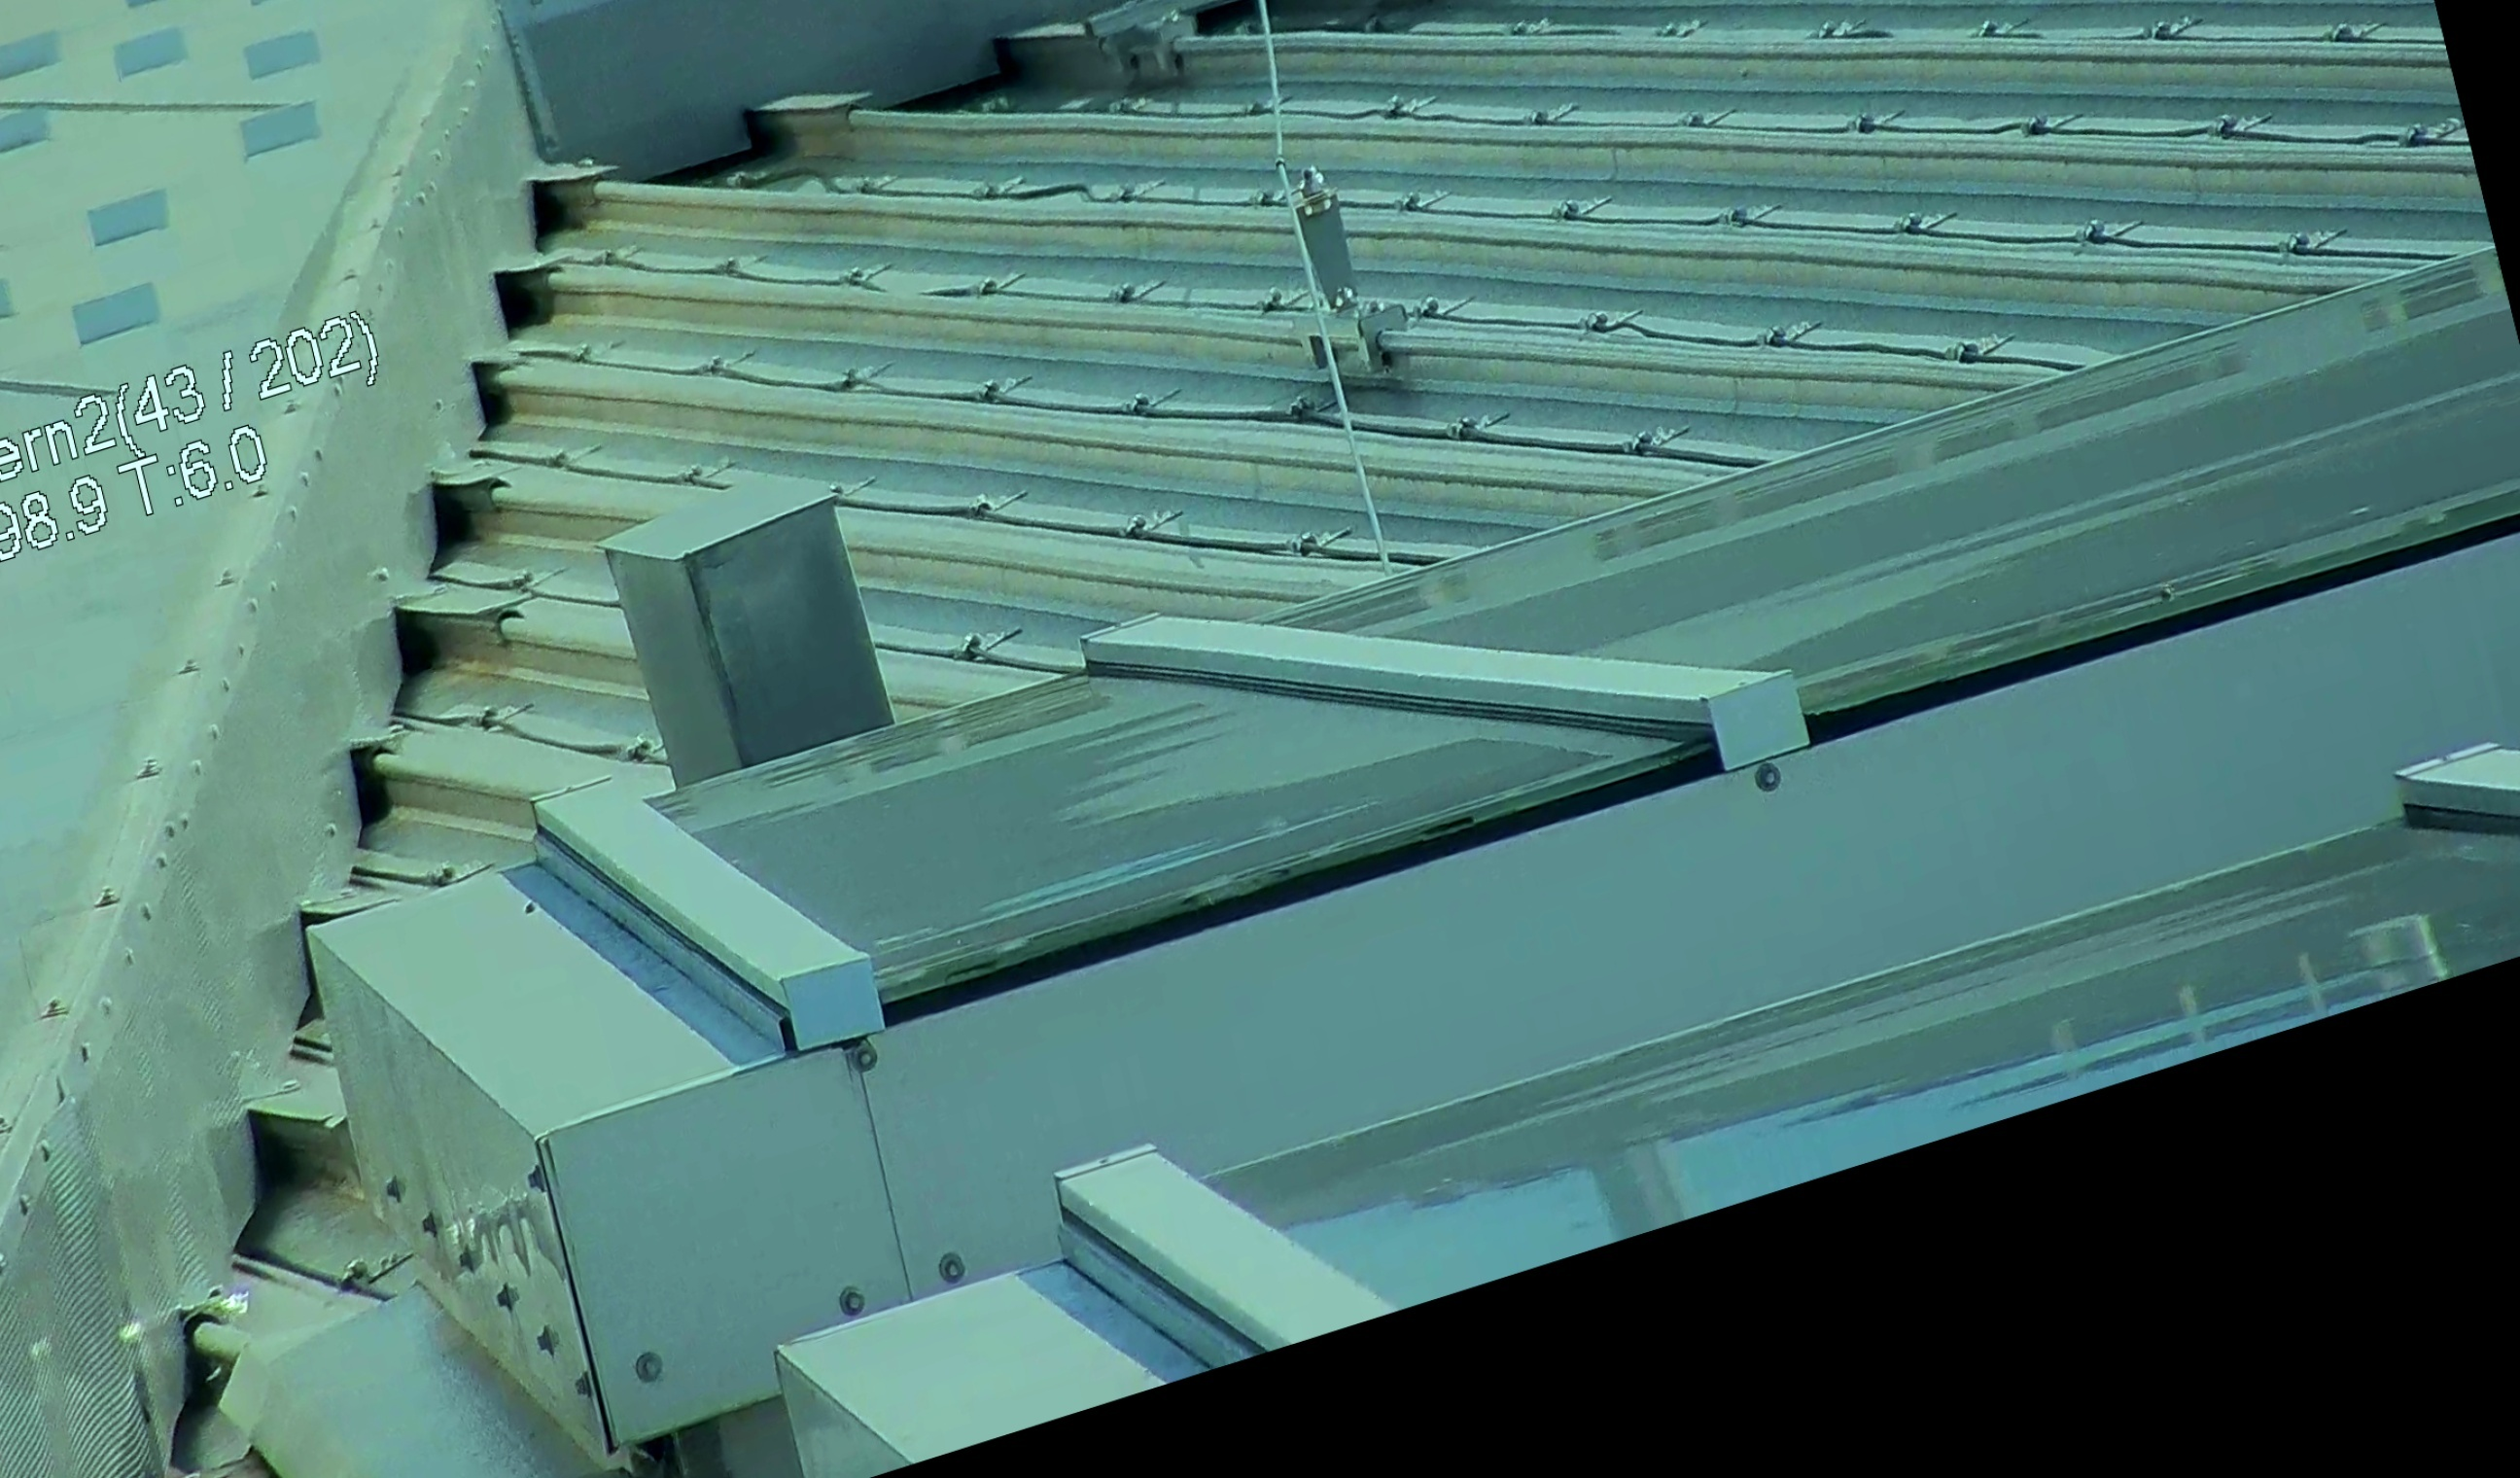Other: (107, 1267, 292, 1478)
